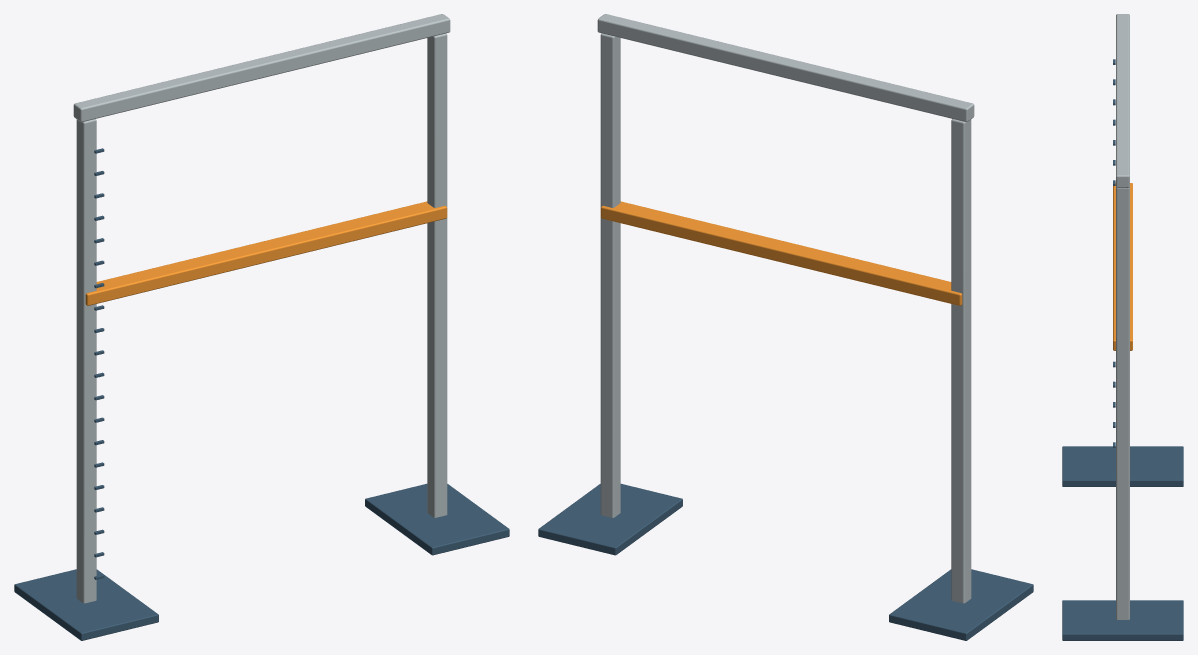
The model's file is container-inspection-and-customs-yard-container-inspec-7fadde21__29315.glb.
3 renders of one model, left to right at view 1: azimuth 30°, elevation 25°; view 2: azimuth 150°, elevation 25°; view 3: azimuth 270°, elevation 25°, orthographic. The views are drawn at different scales.
Parts seen in each view (by area): view 1: container-inspection-and-customs-yard-cargo-measuring-frame_ (×3); view 2: container-inspection-and-customs-yard-cargo-measuring-frame_ (×3); view 3: container-inspection-and-customs-yard-cargo-measuring-frame_ (×3).
Boxes of the visible parts, bbox=[...] form: container-inspection-and-customs-yard-cargo-measuring-frame_ (×3): bbox=[14, 14, 509, 640]; container-inspection-and-customs-yard-cargo-measuring-frame_ (×3): bbox=[538, 14, 1033, 640]; container-inspection-and-customs-yard-cargo-measuring-frame_ (×3): bbox=[1062, 14, 1183, 640].
Size of the model in its own units: 2.2 by 2.47 by 0.5999.
